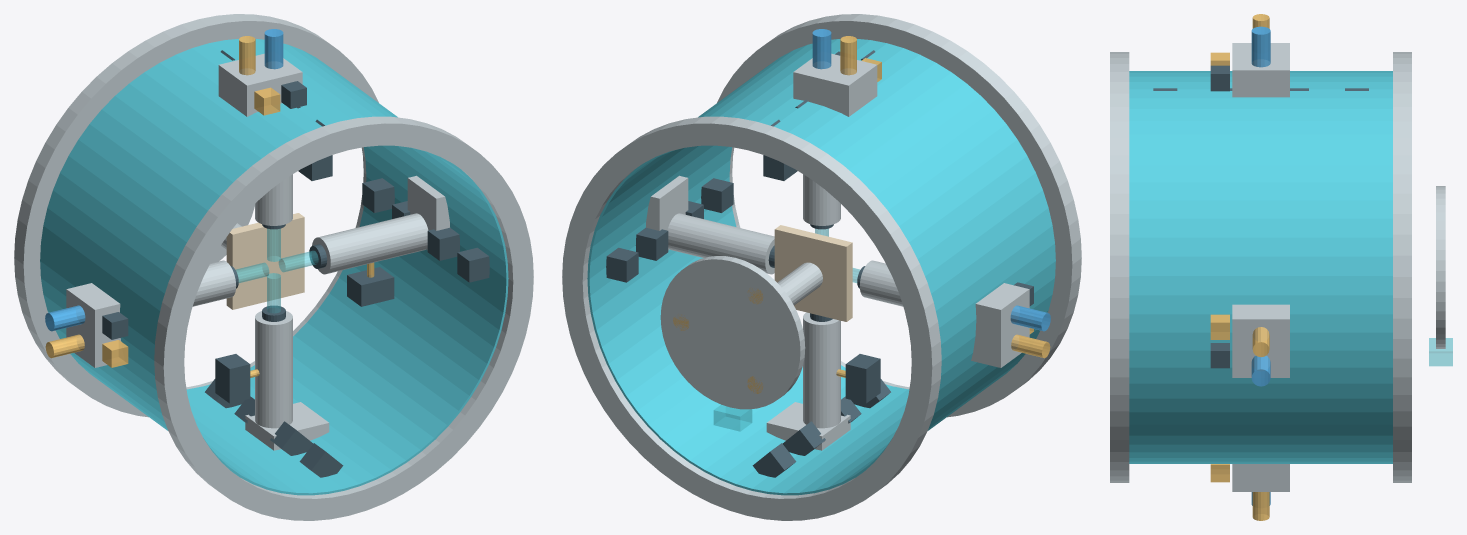
Rendered from VECTOR-LOCK-cassette.glb.
3 views of the same model, side by side, from view 1: azimuth 30°, elevation 25°; view 2: azimuth 150°, elevation 25°; view 3: azimuth 270°, elevation 25° (orthographic).
Visible parts, largest first — view 1: shell, frame, dark, sample, gas, mist, water; view 2: frame, shell, dark, sample, gas, water, mist; view 3: shell, frame, gas, water, dark, mist.
Boxes of the visible parts, x1=… form: shell: x1=40, y1=39, x2=508, y2=495; frame: x1=14, y1=14, x2=533, y2=520; dark: x1=102, y1=50, x2=489, y2=477; sample: x1=226, y1=213, x2=304, y2=309; gas: x1=45, y1=36, x2=374, y2=377; mist: x1=236, y1=228, x2=318, y2=313; water: x1=45, y1=29, x2=283, y2=331; frame: x1=562, y1=14, x2=1081, y2=520; shell: x1=587, y1=39, x2=1055, y2=495; dark: x1=606, y1=50, x2=1033, y2=477; sample: x1=774, y1=225, x2=852, y2=321; gas: x1=673, y1=36, x2=1050, y2=393; water: x1=812, y1=29, x2=1050, y2=331; mist: x1=713, y1=228, x2=859, y2=431; shell: x1=1129, y1=71, x2=1392, y2=463; frame: x1=1110, y1=43, x2=1445, y2=491; gas: x1=1210, y1=14, x2=1269, y2=520; water: x1=1251, y1=26, x2=1270, y2=505; dark: x1=1153, y1=65, x2=1368, y2=368; mist: x1=1429, y1=338, x2=1452, y2=366.
Bounding box in the file's own units: 0.218 × 0.218 × 0.143.
